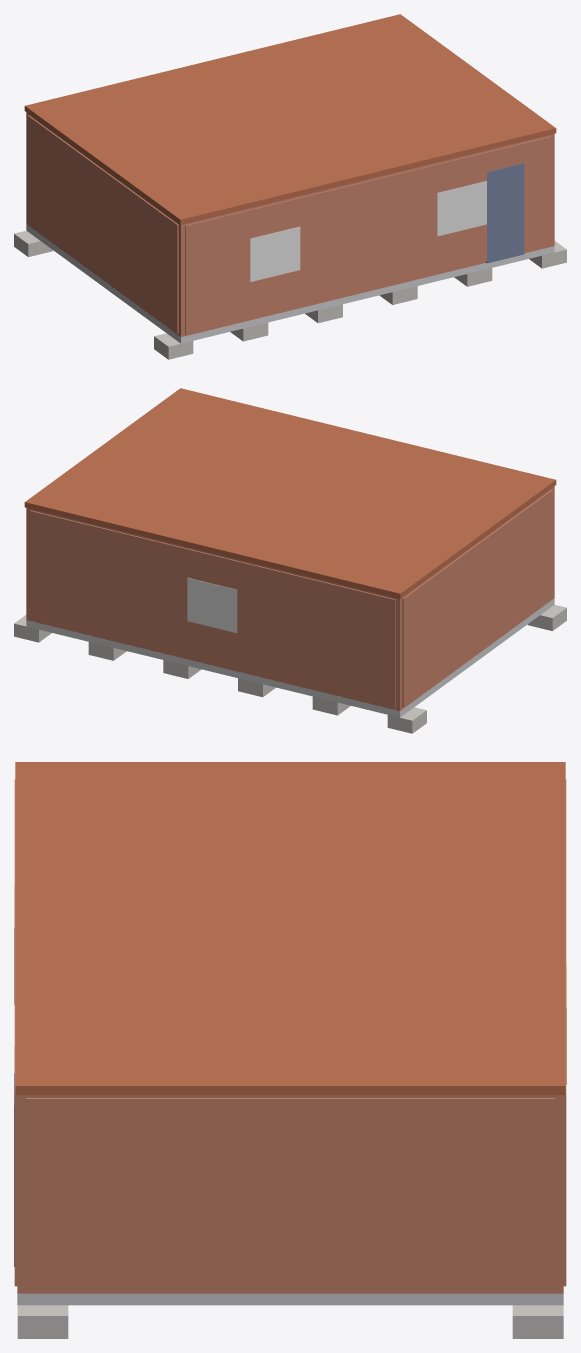
The model's file is Studio-30-Base-BrickRed-LOD2.glb.
3 renders of one model, top to bottom at view 1: azimuth 30°, elevation 25°; view 2: azimuth 150°, elevation 25°; view 3: azimuth 270°, elevation 25°, orthographic. The views are drawn at different scales.
Visible parts, largest first — view 1: RoofMain, ExteriorPanelsStandard, WindowsStandard, BaseFrame, FoundationBlocks, ExteriorShell, EntryDoor; view 2: RoofMain, ExteriorPanelsStandard, BaseFrame, ExteriorShell, FoundationBlocks, WindowsStandard; view 3: RoofMain, ExteriorPanelsStandard, BaseFrame, ExteriorShell, FoundationBlocks.
Part boxes in pixels (<box>): RoofMain: <box>24,14,556,224</box>; ExteriorPanelsStandard: <box>27,115,550,334</box>; WindowsStandard: <box>250,181,486,281</box>; BaseFrame: <box>26,224,554,343</box>; FoundationBlocks: <box>14,230,566,359</box>; ExteriorShell: <box>26,112,554,336</box>; EntryDoor: <box>486,163,524,263</box>; RoofMain: <box>24,388,556,598</box>; ExteriorPanelsStandard: <box>30,489,553,708</box>; BaseFrame: <box>26,598,554,717</box>; ExteriorShell: <box>26,486,554,710</box>; FoundationBlocks: <box>14,604,566,733</box>; WindowsStandard: <box>187,577,237,633</box>; RoofMain: <box>15,762,565,1094</box>; ExteriorPanelsStandard: <box>14,779,566,1290</box>; BaseFrame: <box>17,1293,563,1305</box>; ExteriorShell: <box>17,1095,563,1293</box>; FoundationBlocks: <box>17,1305,563,1338</box>.
Size of the model in its own units: 9.6 by 3.17 by 6.53.
